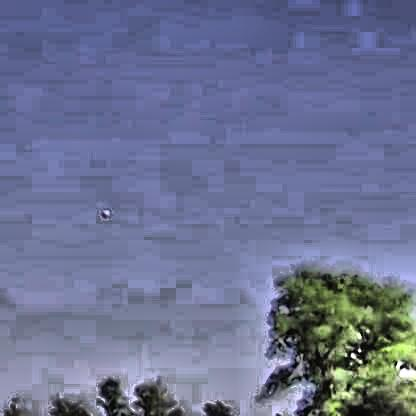golfball: (99, 207, 108, 216)
